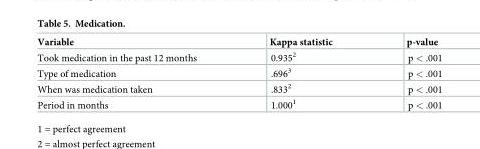table: (36, 36, 441, 109)
table column: (36, 36, 232, 109), (232, 36, 368, 109), (368, 36, 441, 109)
table column header: (36, 36, 441, 48)
table row: (36, 48, 441, 64), (36, 64, 441, 80), (36, 80, 441, 96), (36, 96, 441, 109), (36, 36, 441, 48)
